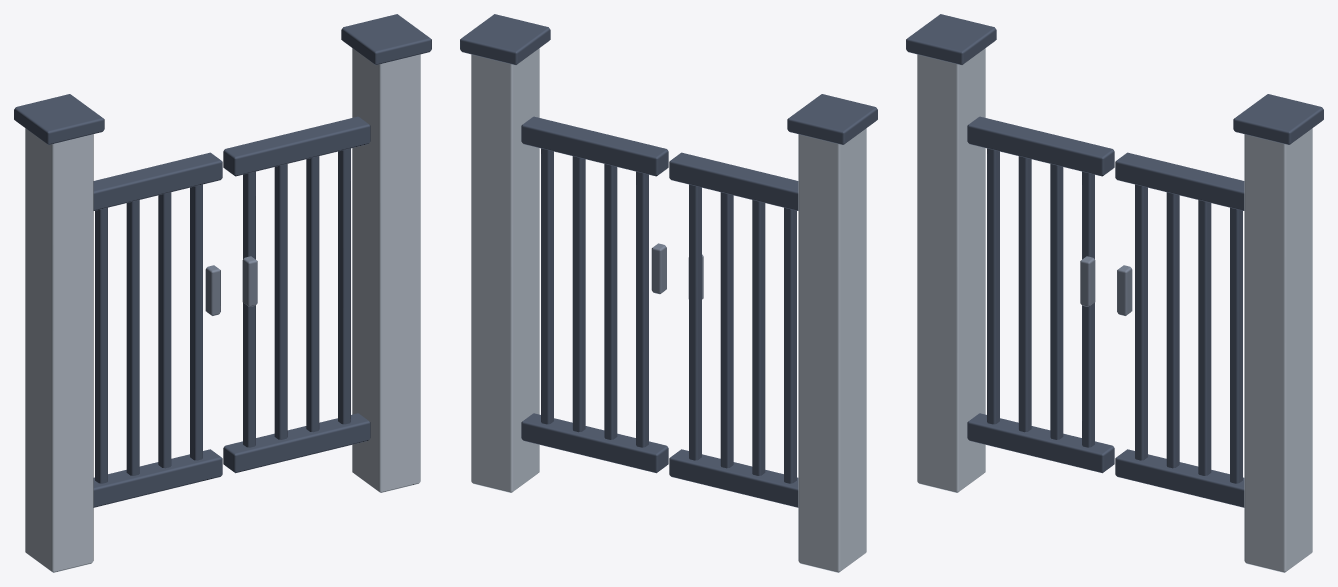
File: garden-gate-lite.glb
The picture shows the model from 3 angles, left to right: view 1: azimuth 30°, elevation 25°; view 2: azimuth 150°, elevation 25°; view 3: azimuth 330°, elevation 25°; orthographic projection.
Parts seen in each view (by area): view 1: garden-gate; view 2: garden-gate; view 3: garden-gate.
Part boxes in pixels (bbox=[...]): garden-gate: bbox=[14, 14, 431, 572]; garden-gate: bbox=[460, 14, 877, 572]; garden-gate: bbox=[906, 14, 1323, 572].
Size of the model in its own units: 1.4 by 1.55 by 0.22.
